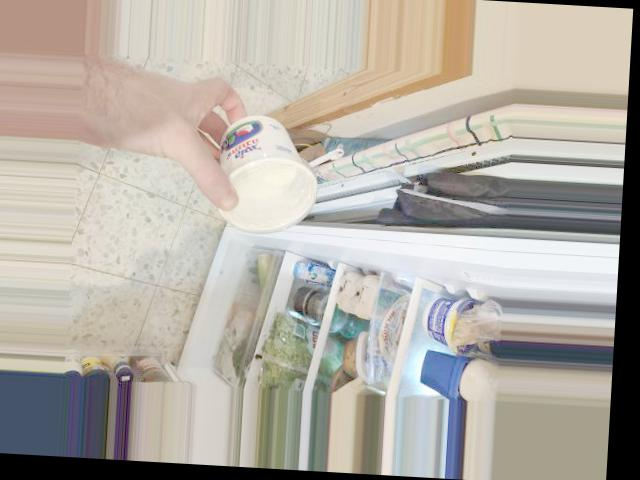cotage: (198, 117, 316, 239)
